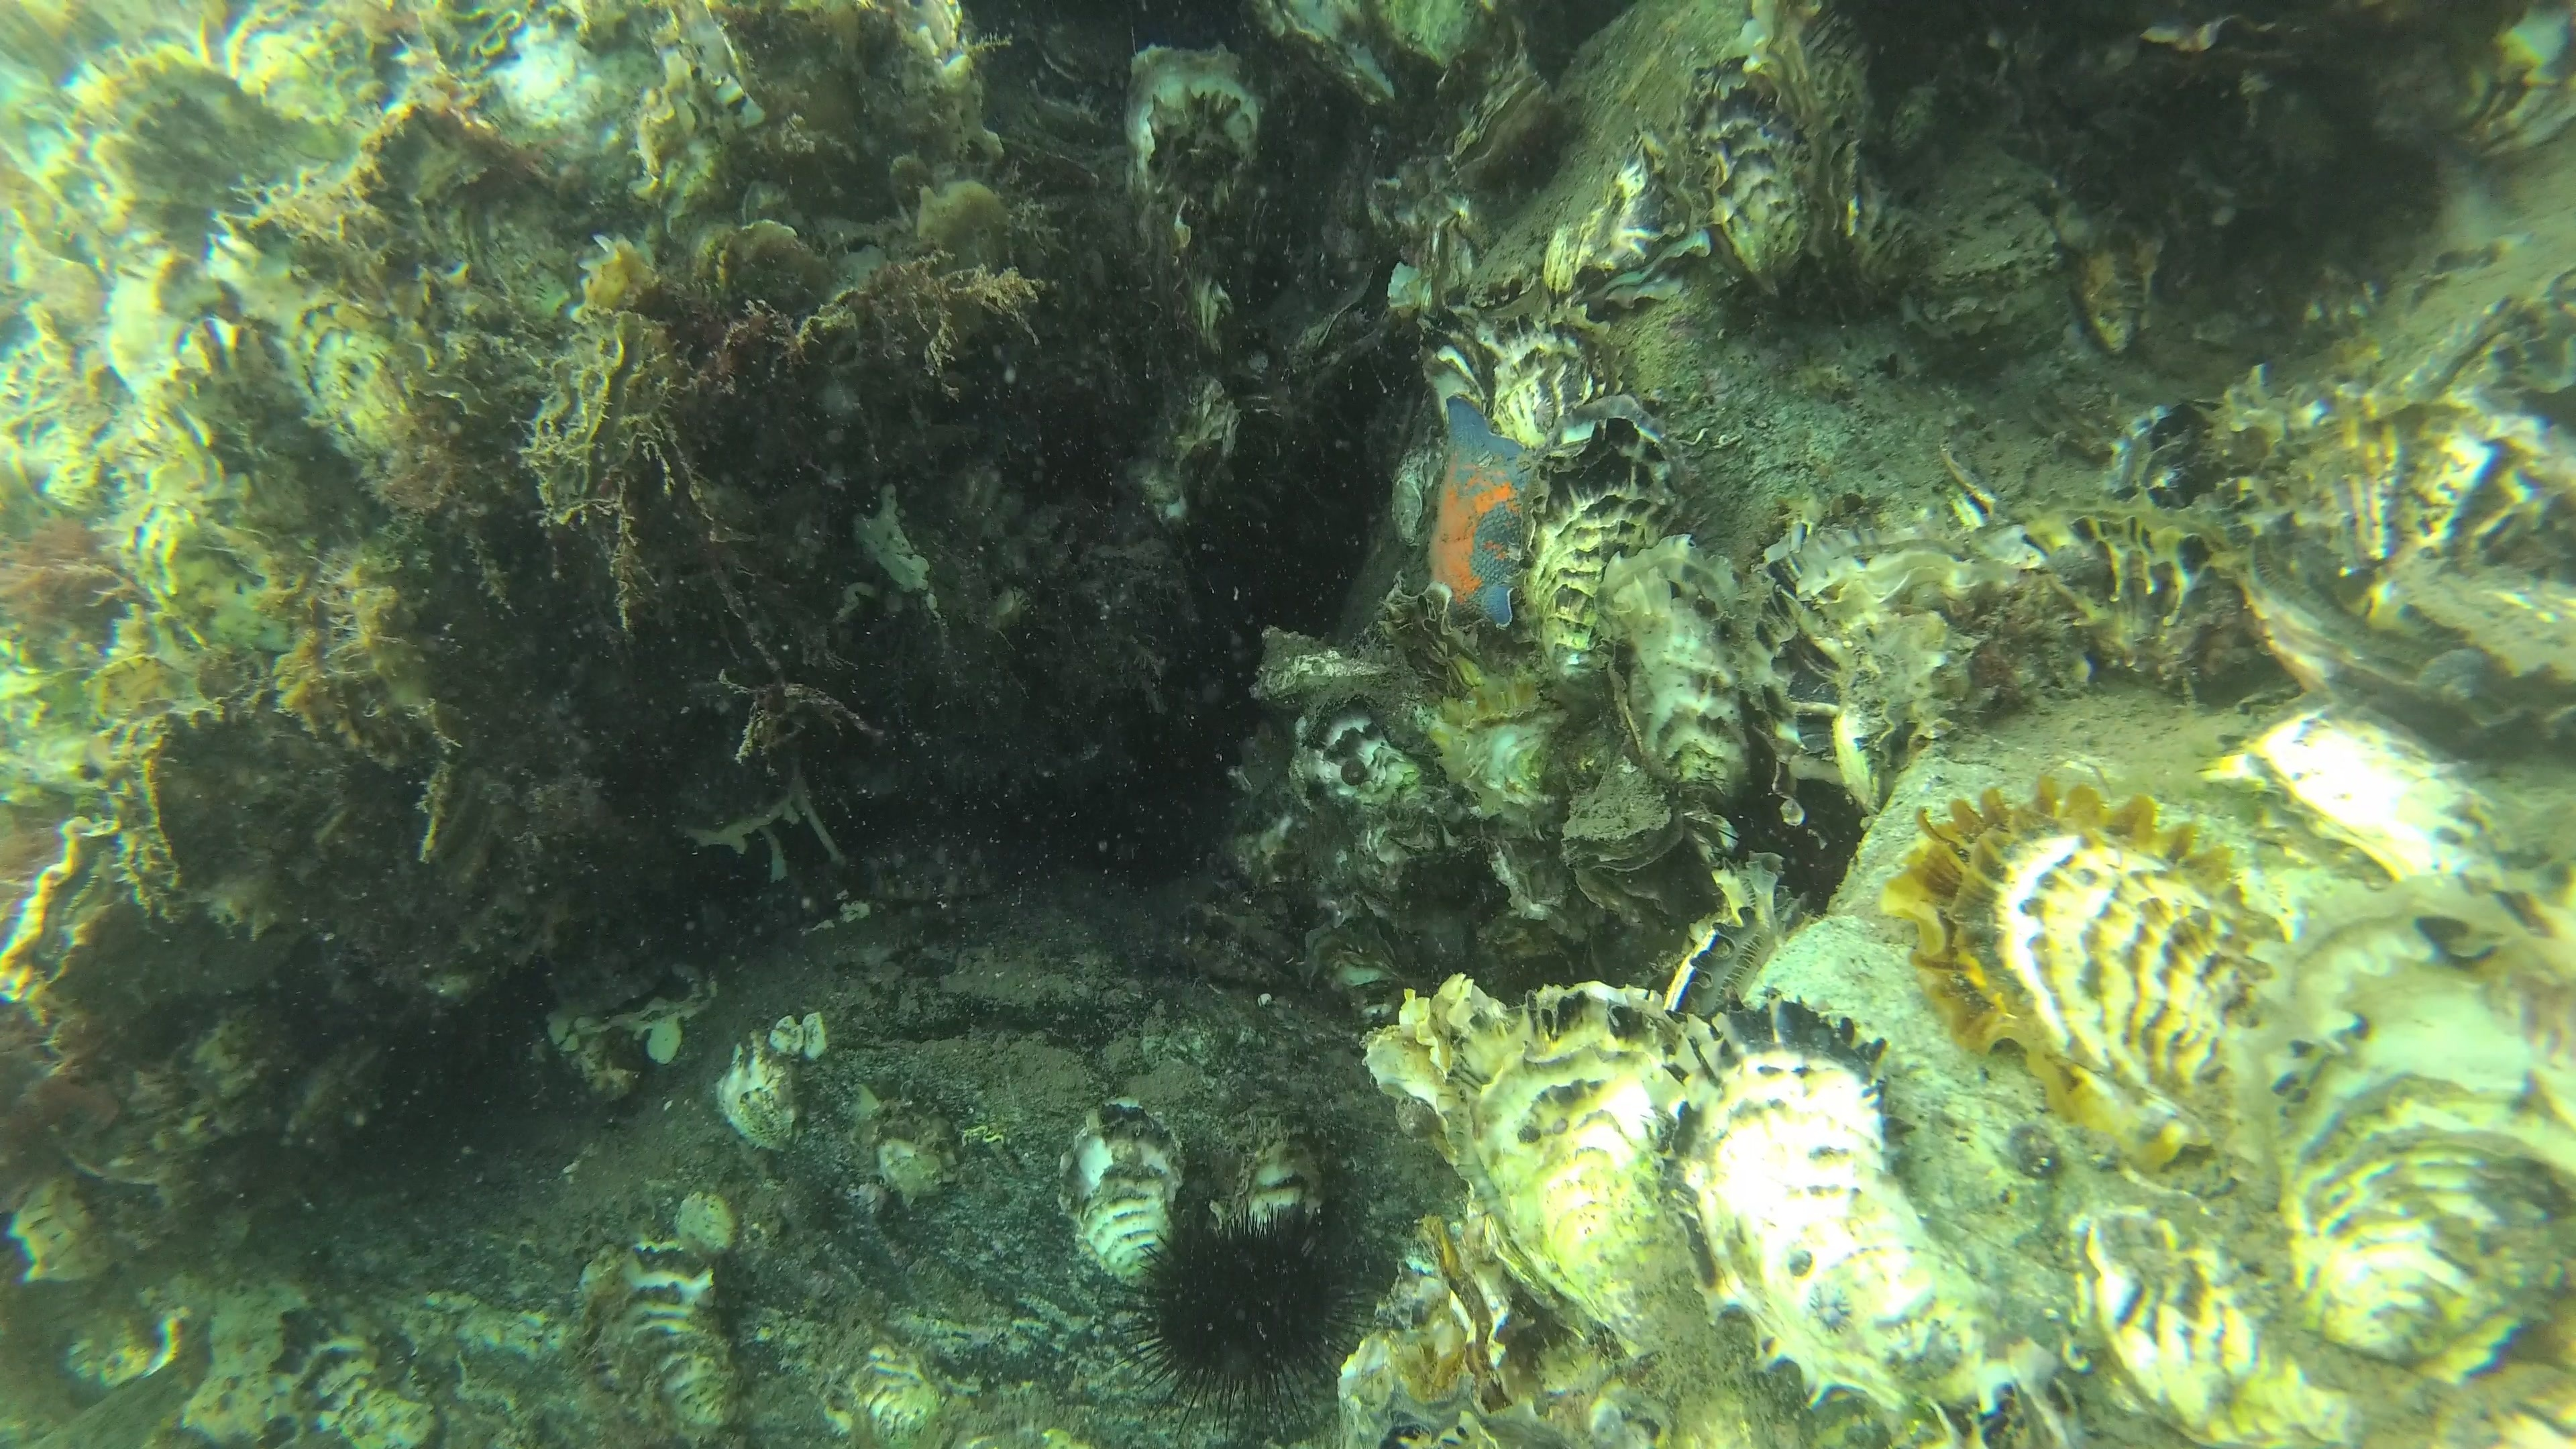echinus: (1111, 1200, 1368, 1426)
starfish: (1424, 391, 1543, 635)
